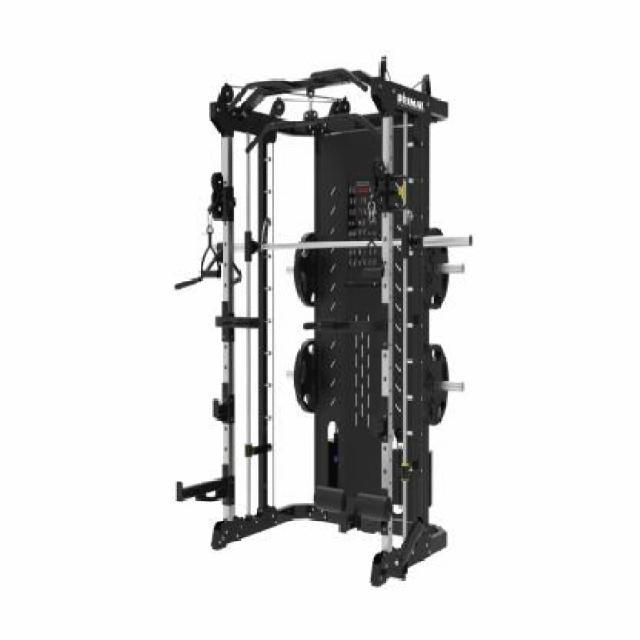smith machine: (175, 57, 474, 591)
